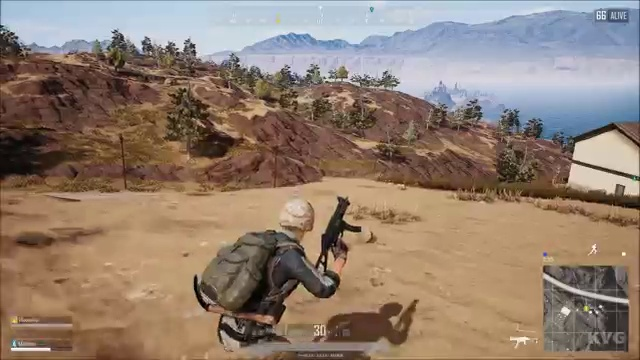Player: (188, 187, 386, 319)
